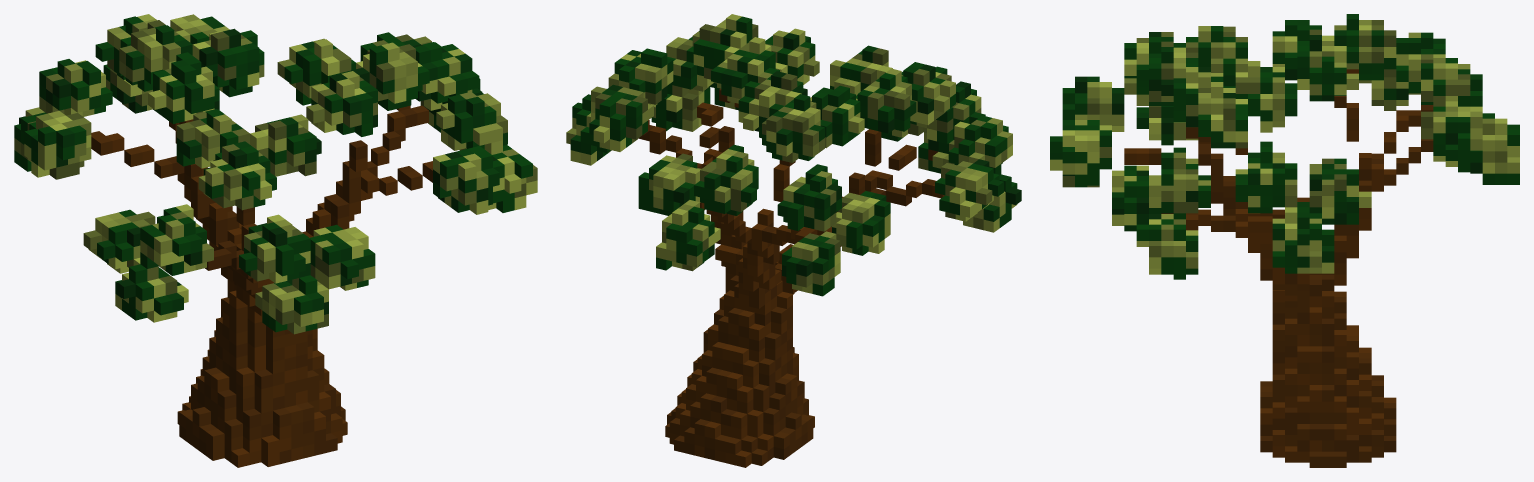
File: Shrub3-2-0.obj
The picture shows the model from 3 angles, left to right: view 1: azimuth 30°, elevation 25°; view 2: azimuth 150°, elevation 25°; view 3: azimuth 270°, elevation 25°; orthographic projection. The views are drawn at different scales.
Parts seen in each view (by area): view 1: 0; view 2: 0; view 3: 0.
Boxes of the visible parts, box(x1,y1,x2,y2) form: 0: box(14, 14, 537, 467); 0: box(566, 14, 1021, 467); 0: box(1050, 14, 1519, 467).
Bounding box in the file's own units: 3.7 × 3.4 × 3.8.
Materials: 1 (1 with a texture image).
